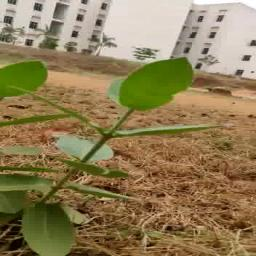CALOTROPIS: (0, 52, 199, 242)
